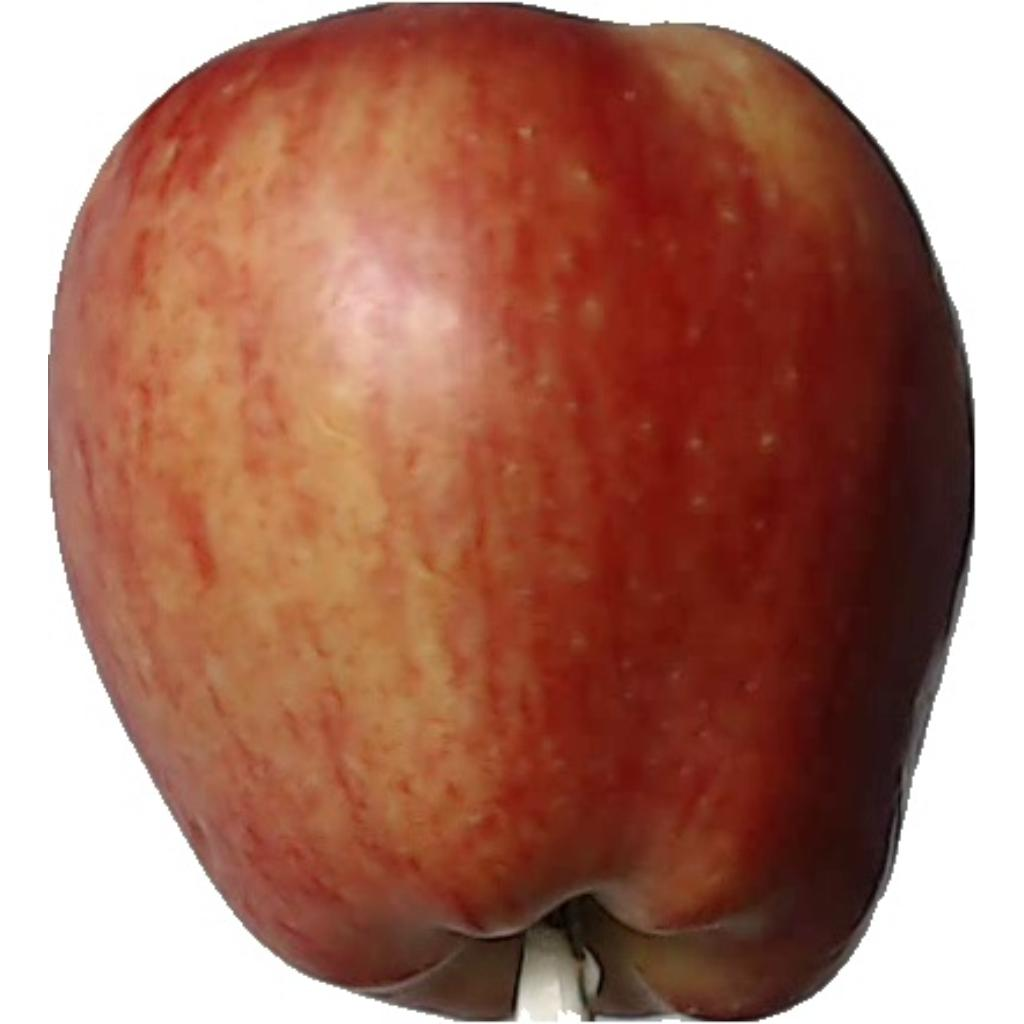apple: (47, 2, 976, 1024)
